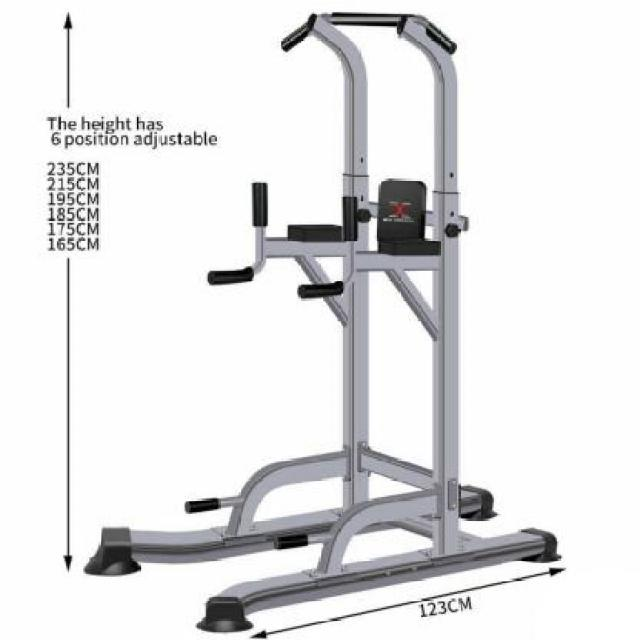chinning dipping: (203, 12, 566, 632)
